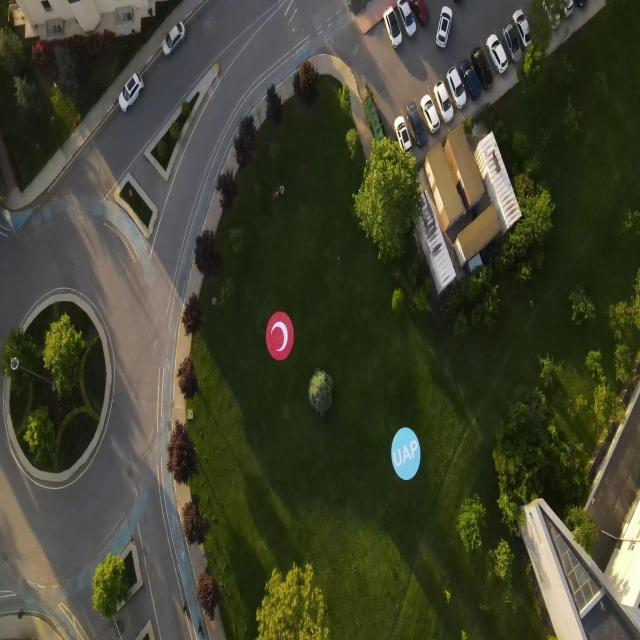p3rson: (197, 620, 205, 640), (183, 602, 189, 620), (272, 191, 278, 201), (280, 186, 285, 196)
